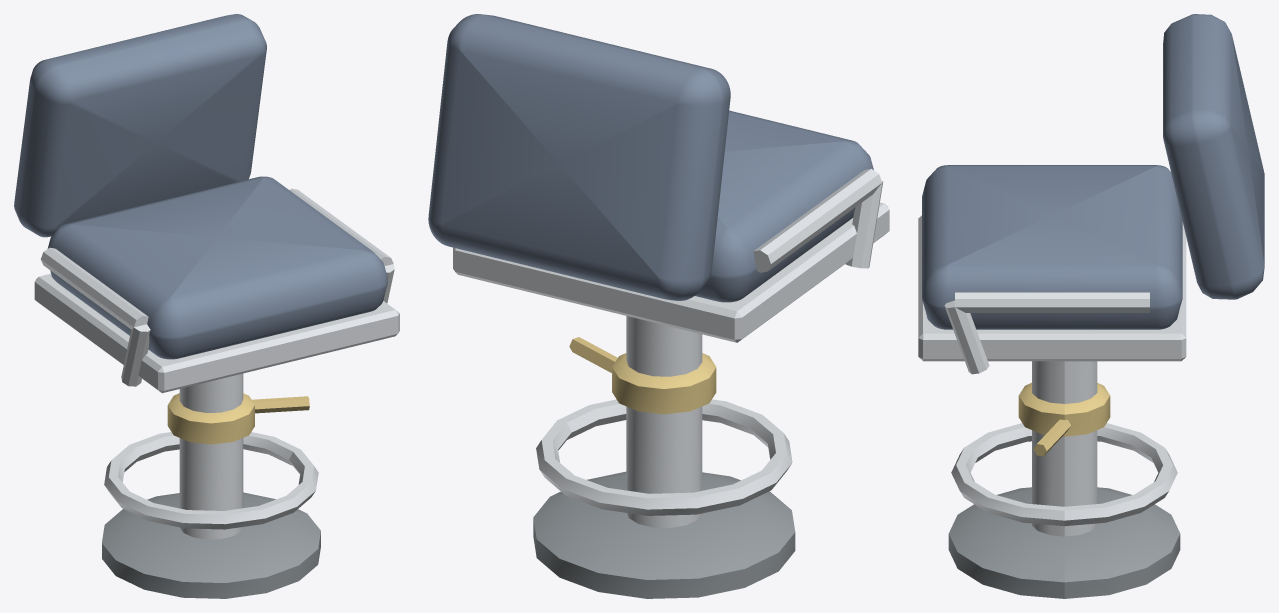
File: submarine-interior-and-control-room-planesman-seat-e3198e71__36480.glb
3 views of the same model, side by side, from view 1: azimuth 30°, elevation 25°; view 2: azimuth 150°, elevation 25°; view 3: azimuth 270°, elevation 25° (orthographic). The views are drawn at different scales.
Parts seen in each view (by area): view 1: seat/fabric, planesman-seat, seat/metal; view 2: seat/fabric, planesman-seat, seat/metal; view 3: seat/fabric, planesman-seat, seat/metal.
Part boxes in pixels (<box>): seat/fabric: <box>14,14,387,359</box>; planesman-seat: <box>102,373,320,598</box>; seat/metal: <box>34,188,399,393</box>; seat/fabric: <box>428,14,873,302</box>; planesman-seat: <box>533,316,795,598</box>; seat/metal: <box>453,168,889,342</box>; seat/fabric: <box>922,14,1264,329</box>; planesman-seat: <box>948,361,1180,598</box>; seat/metal: <box>918,215,1186,374</box>.
Size of the model in its own units: 0.516 by 0.8822 by 0.5686.
